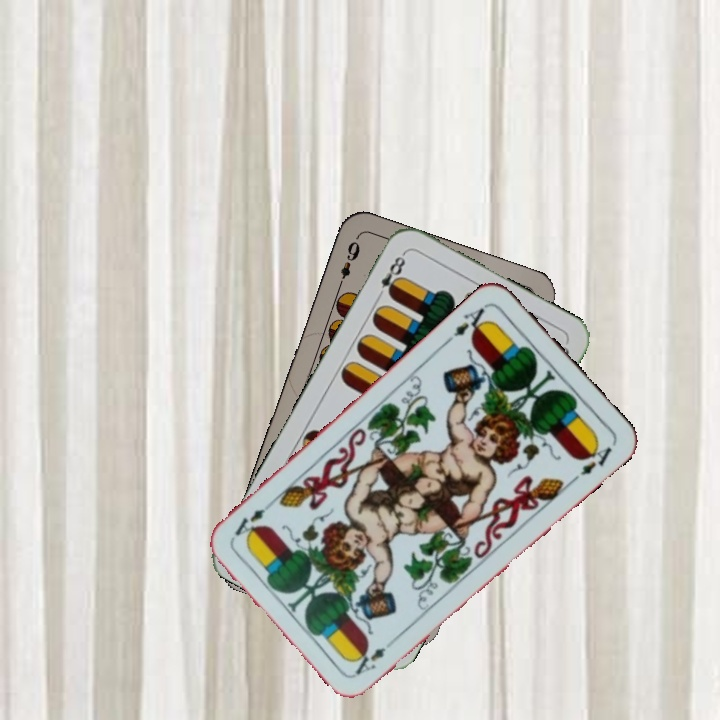E8: (372, 249, 409, 302)
E9: (334, 237, 363, 291)
EA: (442, 303, 492, 346), (351, 634, 399, 678)
